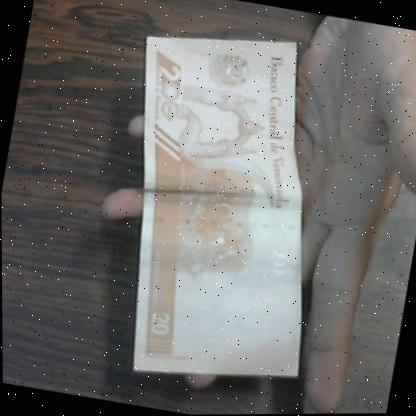twenty-back-vef: (91, 16, 353, 401)
